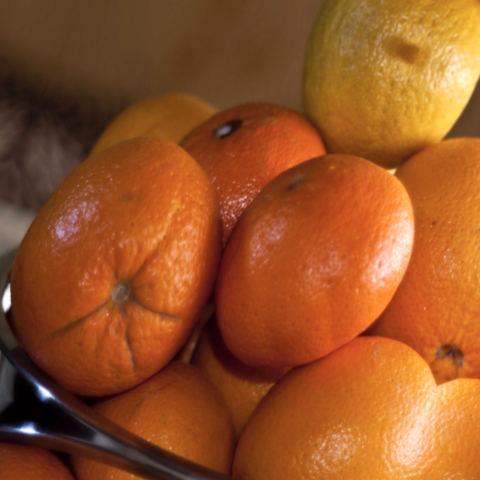orange: (165, 71, 464, 419), (0, 91, 268, 447)
